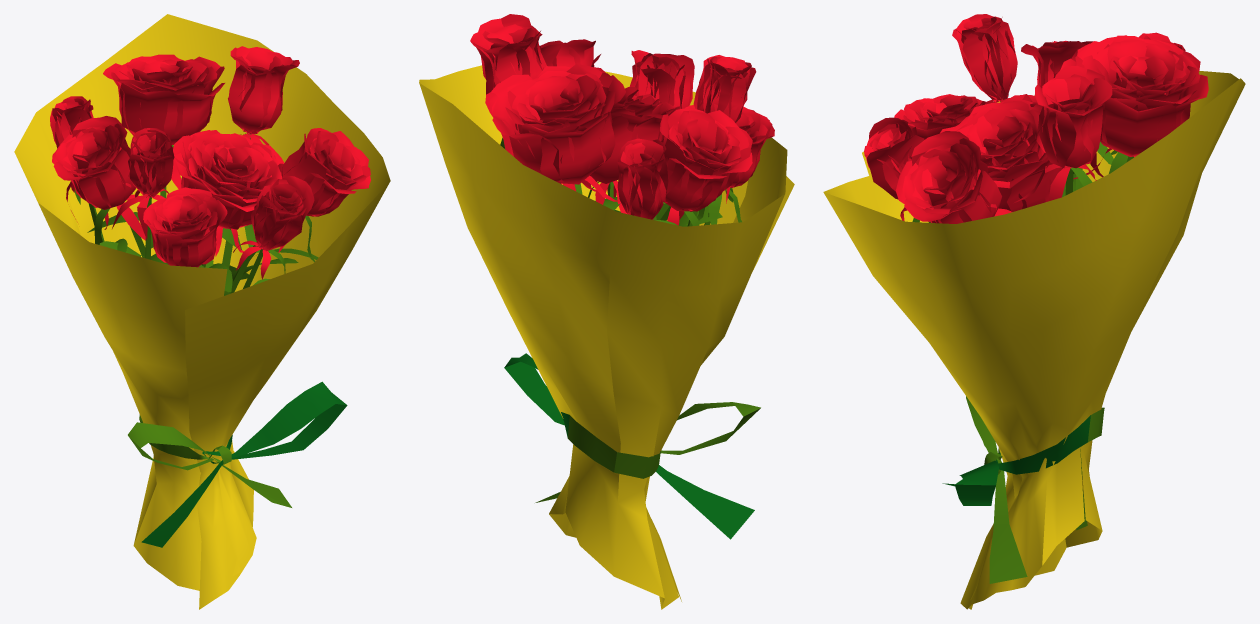
File: buket.FBX
3 renders of one model, left to right at view 1: azimuth 30°, elevation 25°; view 2: azimuth 150°, elevation 25°; view 3: azimuth 270°, elevation 25°, orthographic. The views are drawn at different scales.
Parts seen in each view (by area): view 1: rouse; view 2: rouse; view 3: rouse.
Boxes of the visible parts, x1,y1,x2,y2 form: rouse: [14, 14, 390, 609]; rouse: [419, 14, 794, 609]; rouse: [823, 14, 1245, 609].
Size of the model in its own units: 66.23 by 111 by 72.17.
